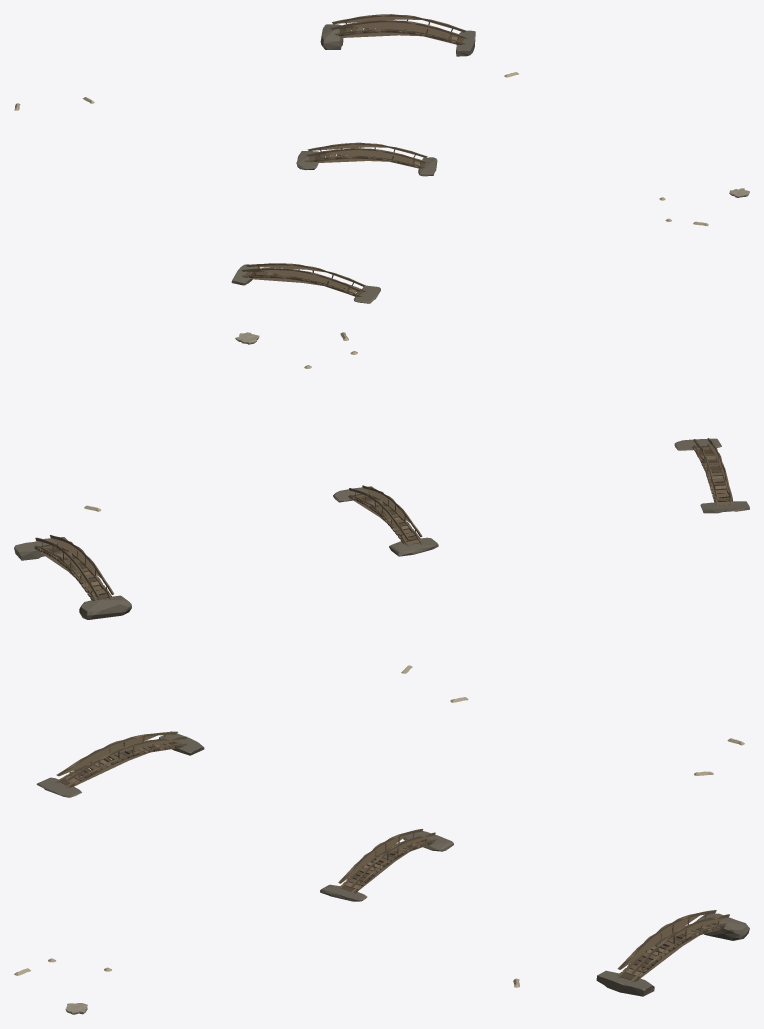
The model's file is 257_Forest_Steppable.fbx.
3 views of the same model, one above another, from view 1: azimuth 30°, elevation 25°; view 2: azimuth 150°, elevation 25°; view 3: azimuth 270°, elevation 25° (orthographic). The views are drawn at different scales.
Parts seen in each view (by area): view 1: PolygonNature_01, PolygonNature_Tree_02; view 2: PolygonNature_01, PolygonNature_Tree_02; view 3: PolygonNature_01, PolygonNature_Tree_02.
Boxes of the visible parts, box(x1,y1,x2,y2) form: PolygonNature_01: box(14, 14, 749, 296); PolygonNature_Tree_02: box(231, 24, 475, 303); PolygonNature_01: box(34, 332, 733, 702); PolygonNature_Tree_02: box(14, 438, 749, 619); PolygonNature_01: box(14, 731, 744, 1014); PolygonNature_Tree_02: box(36, 731, 749, 996).
Size of the model in its own units: 1346 by 75.37 by 1473.
Materials: 2 (2 with a texture image).
